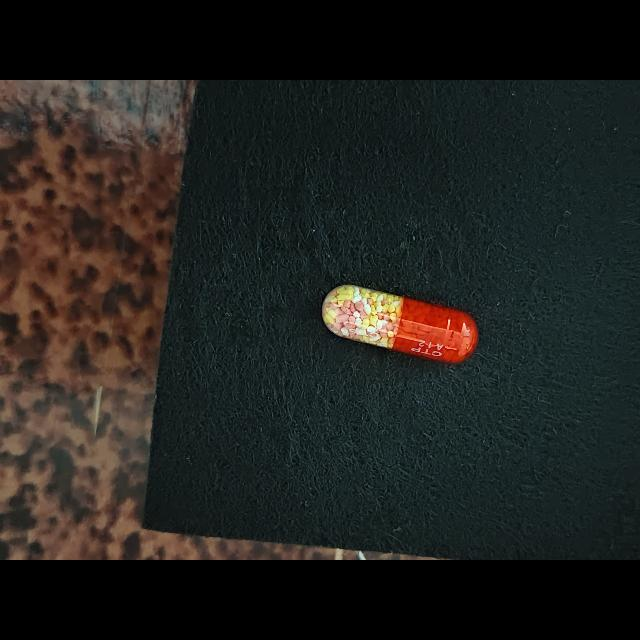Intact Capsule: (322, 285, 478, 364)
